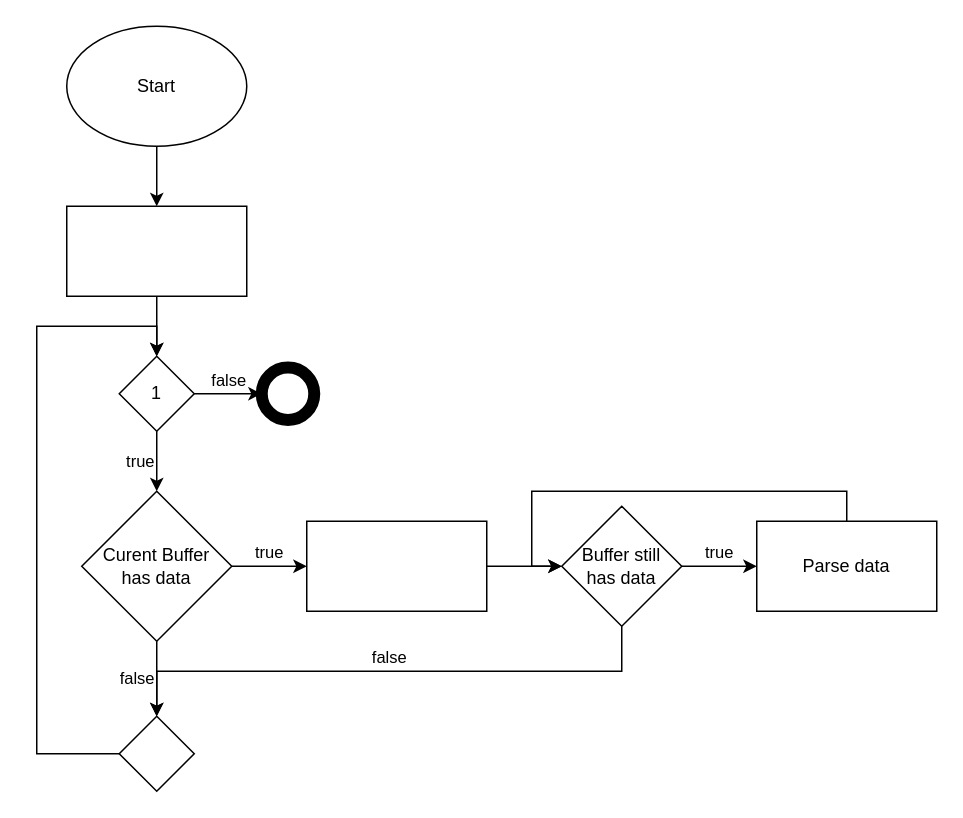
Image size: 963x818. Some labels were removed from this diagram. Here are the shapes that lost their labels. From the top down, the centre of each, then its label:
At (x=156, y=250): "Setup Circular Buffer Selector Containing UART and MQTT Buffers".
At (x=396, y=565): "Start processing the buffer".
